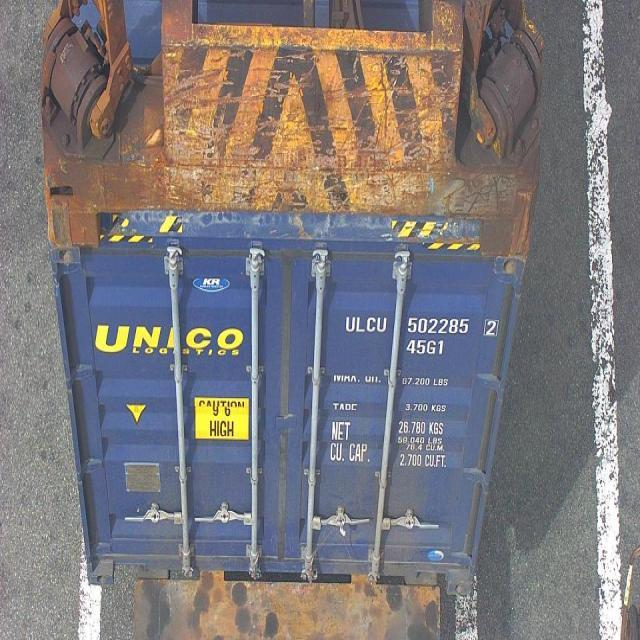ISO: (406, 338, 446, 357)
container_number: (344, 318, 500, 334)
